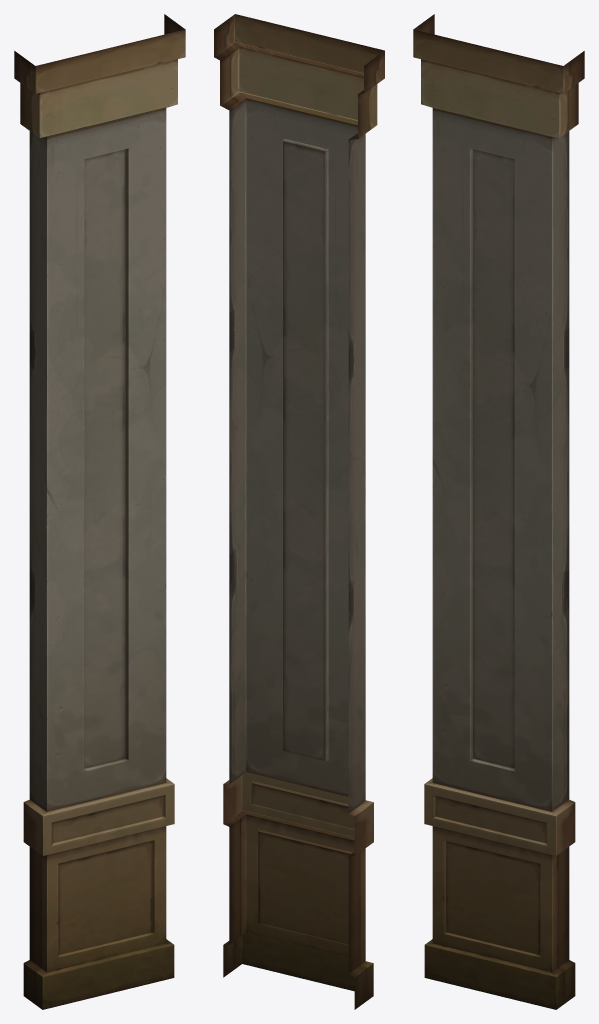
File: sc_qqnm_jz006_4_um.fbx
The picture shows the model from 3 angles, left to right: view 1: azimuth 30°, elevation 25°; view 2: azimuth 150°, elevation 25°; view 3: azimuth 330°, elevation 25°; orthographic projection.
Visible parts, largest first — view 1: qqnm_jz006_4; view 2: qqnm_jz006_4; view 3: qqnm_jz006_4.
Part boxes in pixels (left/top/right/bottom): qqnm_jz006_4: left=14, top=14, right=185, bottom=1009; qqnm_jz006_4: left=214, top=14, right=384, bottom=1009; qqnm_jz006_4: left=413, top=14, right=584, bottom=1009.
Bounding box in the file's own units: 168 × 1015 × 40.95.
